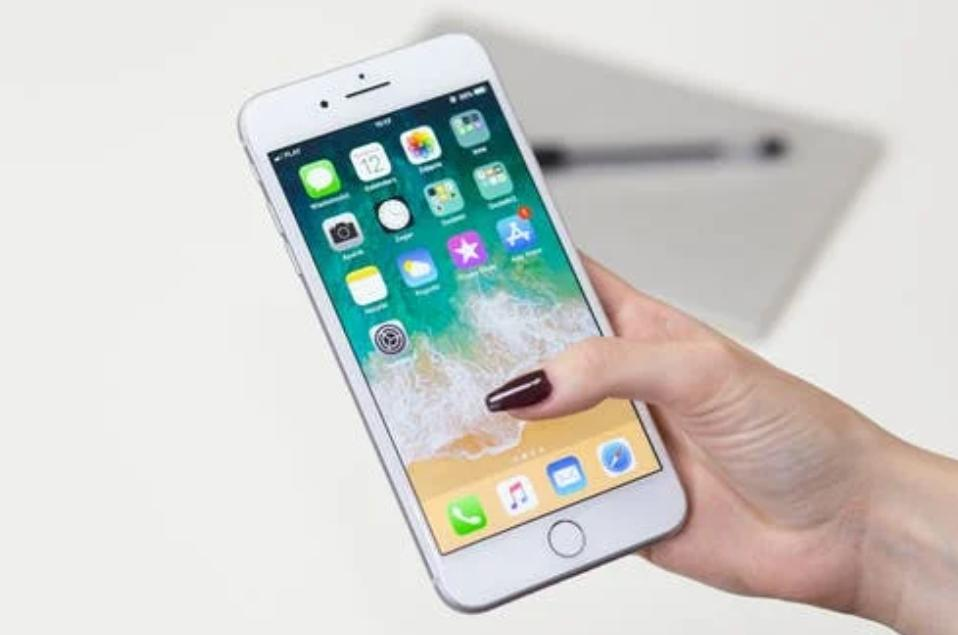mobile: (239, 35, 691, 608)
